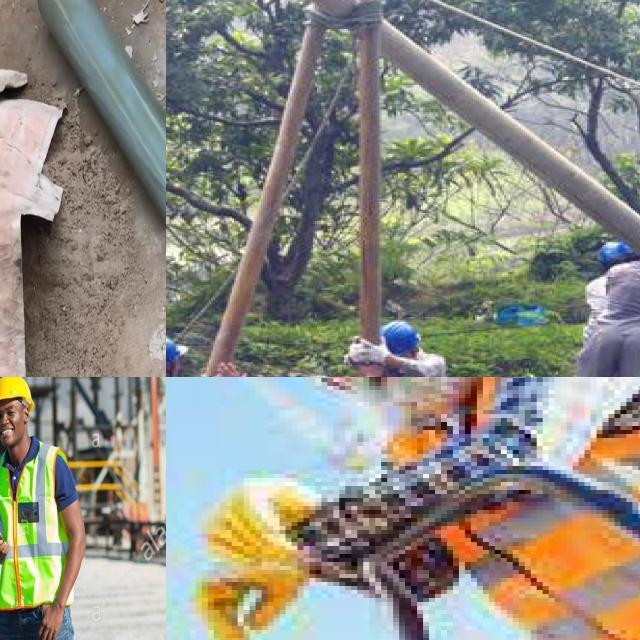face_nomask: (279, 377, 458, 410), (0, 399, 24, 450)
hand_noglove: (196, 474, 321, 566), (183, 570, 315, 640), (41, 600, 66, 640)
head_helmet: (585, 230, 639, 270), (373, 317, 427, 355), (166, 325, 190, 365), (0, 377, 33, 403)
person: (172, 377, 640, 640), (0, 377, 82, 640), (582, 240, 640, 377), (344, 307, 456, 377)
vest: (399, 382, 640, 640), (0, 444, 71, 606)
